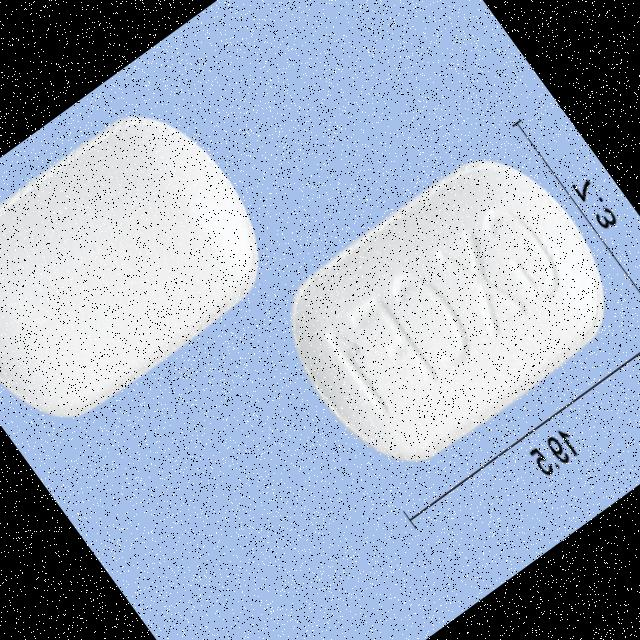Valtrex Tab: (256, 126, 637, 488), (0, 85, 296, 450)
